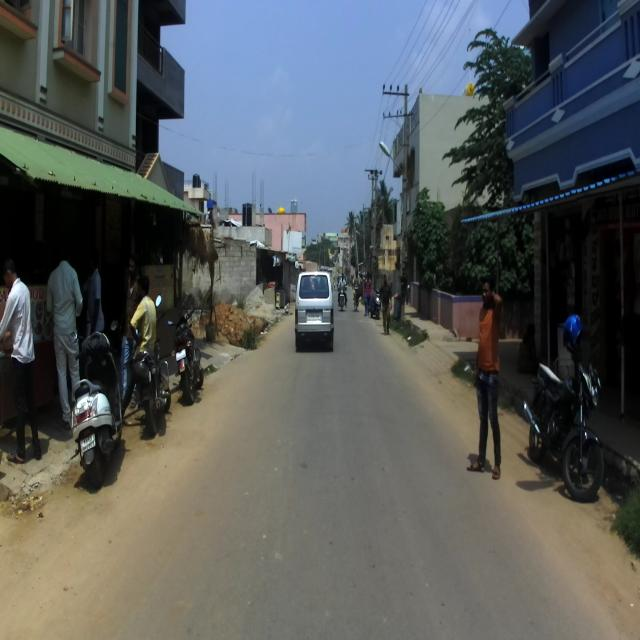car ahead at: (294, 270, 338, 350)
motorcycle ahead at: (529, 317, 605, 510), (74, 325, 125, 482)
person ahead at: (0, 262, 47, 462), (475, 279, 507, 485)
